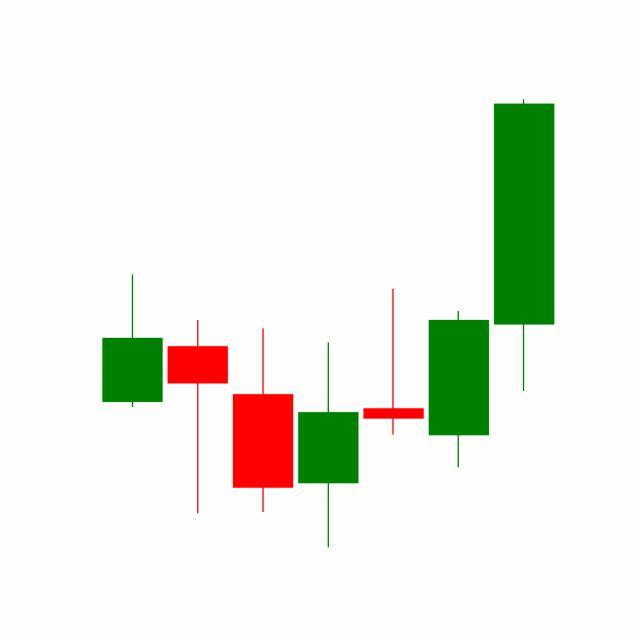Hikkake Pattern: (165, 285, 492, 548)
